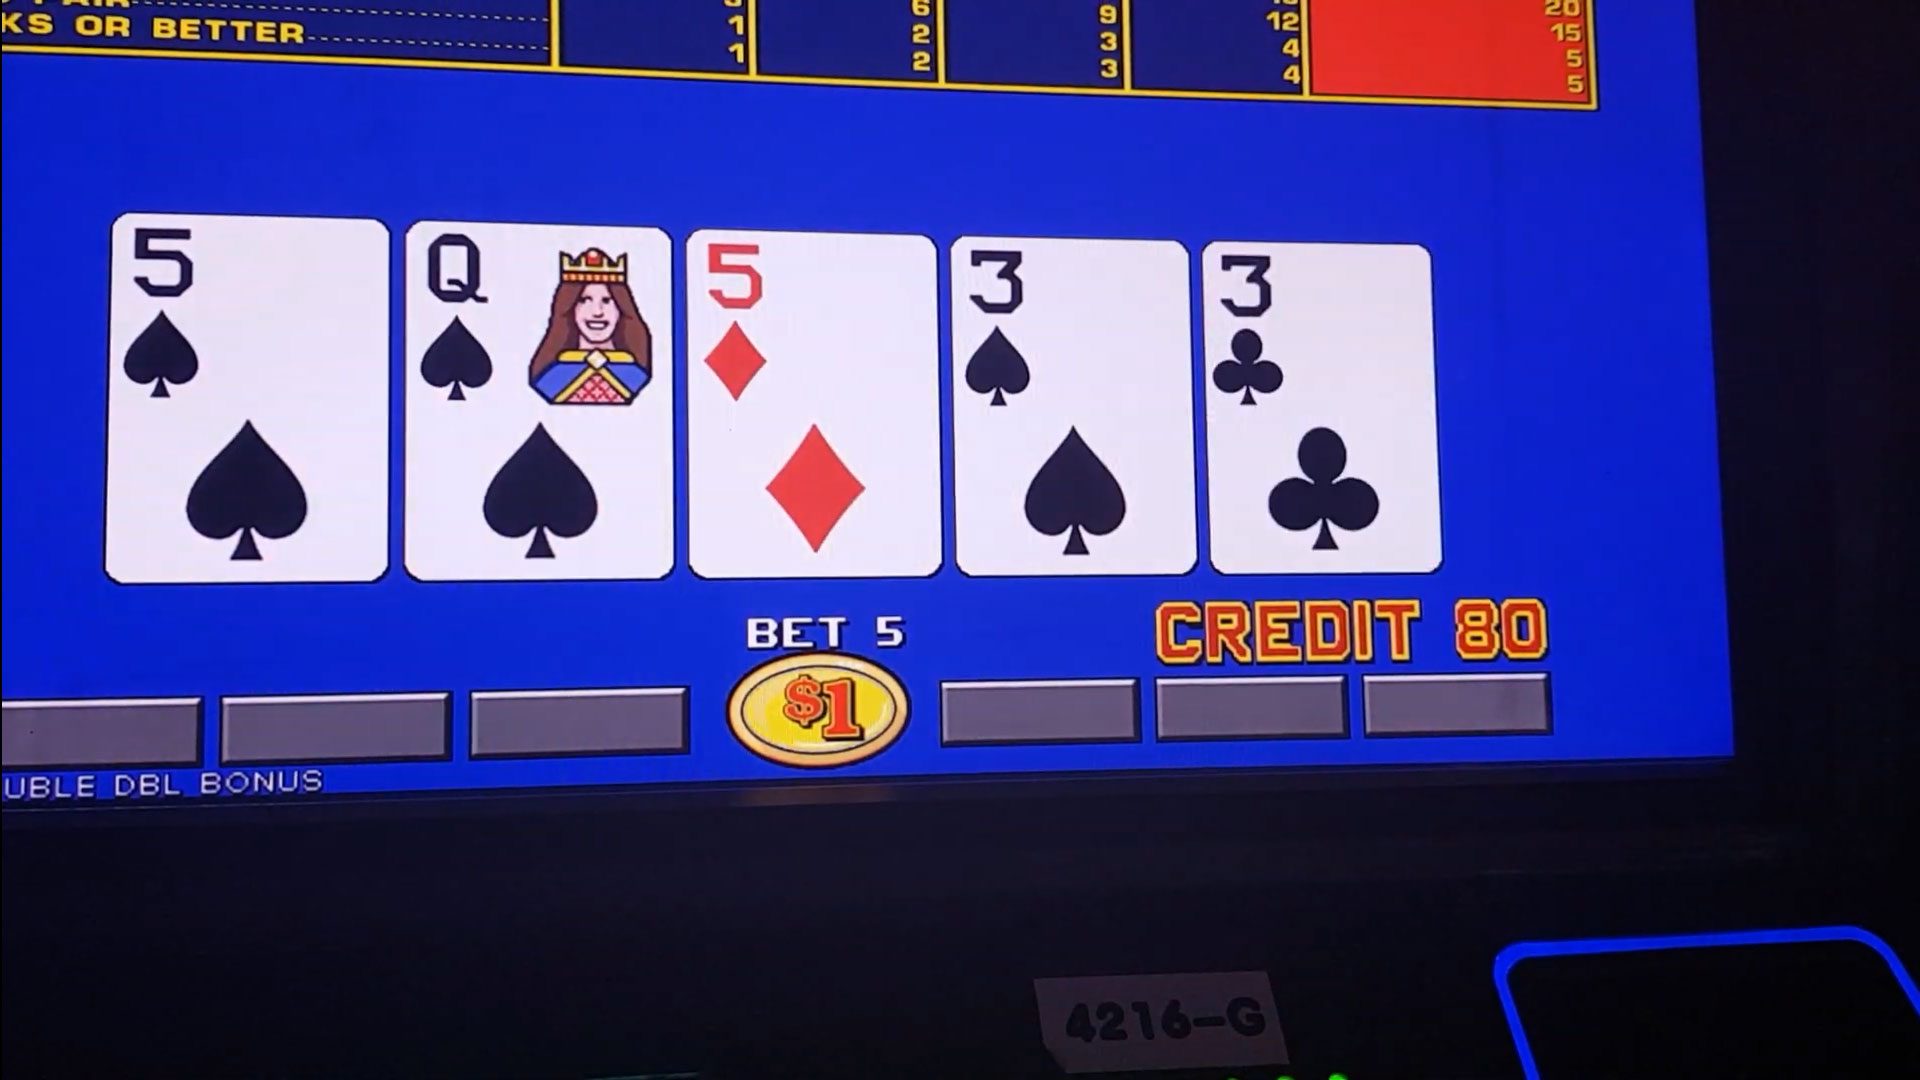C3: (1200, 237, 1428, 417)
D5: (691, 236, 928, 415)
S3: (955, 233, 1184, 421)
S5: (117, 225, 381, 414)
SQ: (410, 232, 666, 415)
